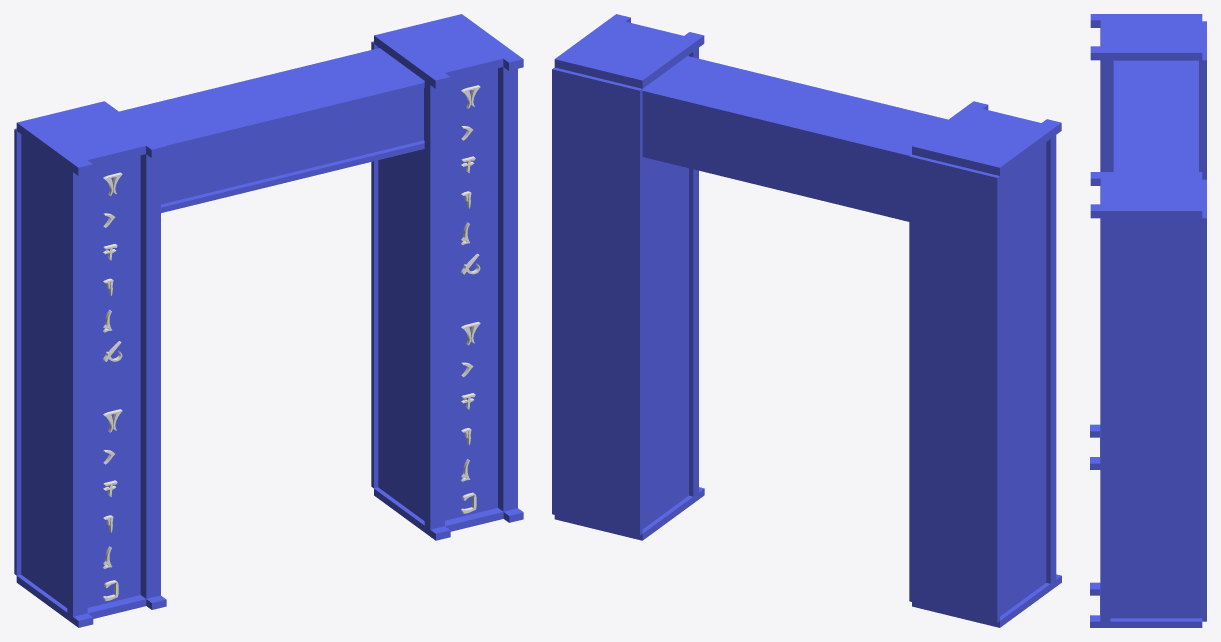
Rendered from mdl_portal_02.fbx.
3 views of the same model, side by side, from view 1: azimuth 30°, elevation 25°; view 2: azimuth 150°, elevation 25°; view 3: azimuth 270°, elevation 25° (orthographic). The views are drawn at different scales.
Parts seen in each view (by area): view 1: pillar_r_1, letters_2.001, letters_2; view 2: pillar_r_1; view 3: pillar_r_1.
Boxes of the visible parts, x1,y1,x2,y2 form: pillar_r_1: [14, 14, 523, 627]; letters_2.001: [461, 85, 480, 513]; letters_2: [103, 172, 122, 600]; pillar_r_1: [552, 14, 1061, 627]; pillar_r_1: [1090, 14, 1206, 627].
Bounding box in the file's own units: 304 × 300 × 76.25.
